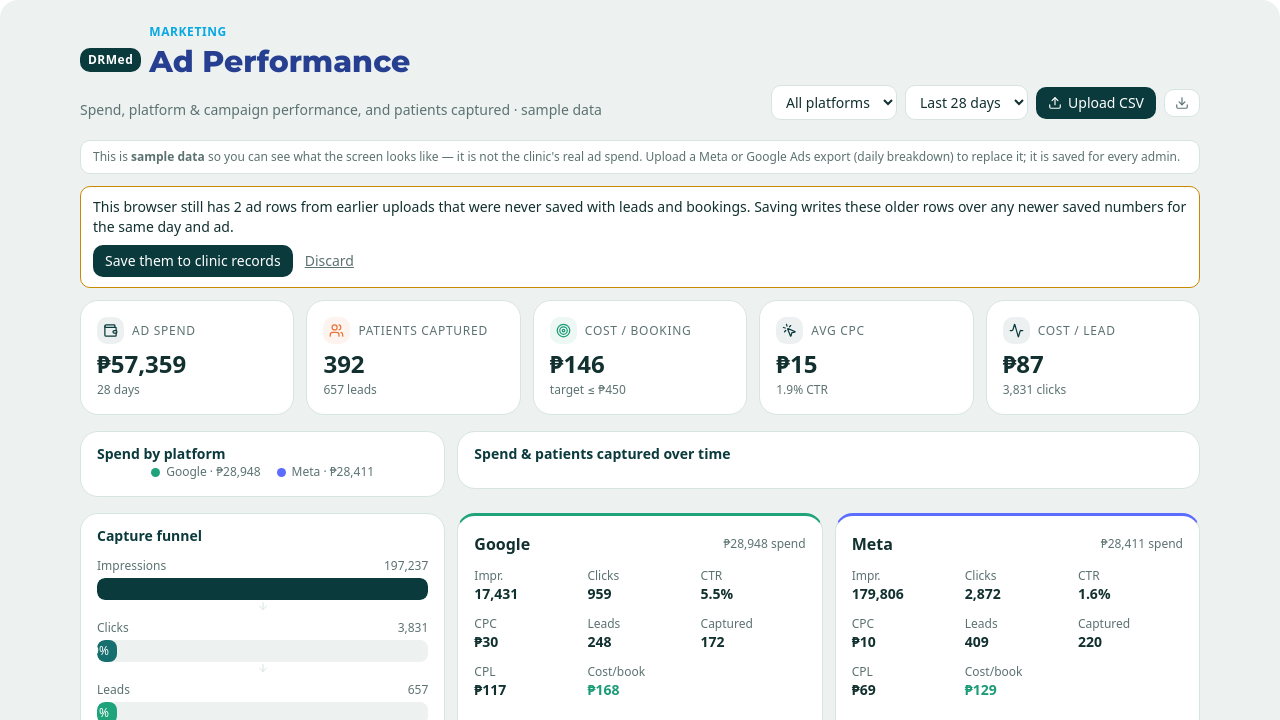
one-time move of this browser's old rows › Save sends the rows (as an upload file) through saveAdSpendAction, then clears the key and refreshes
Click the button "Save them to clinic records" at (193, 261), box [93, 245, 293, 277]
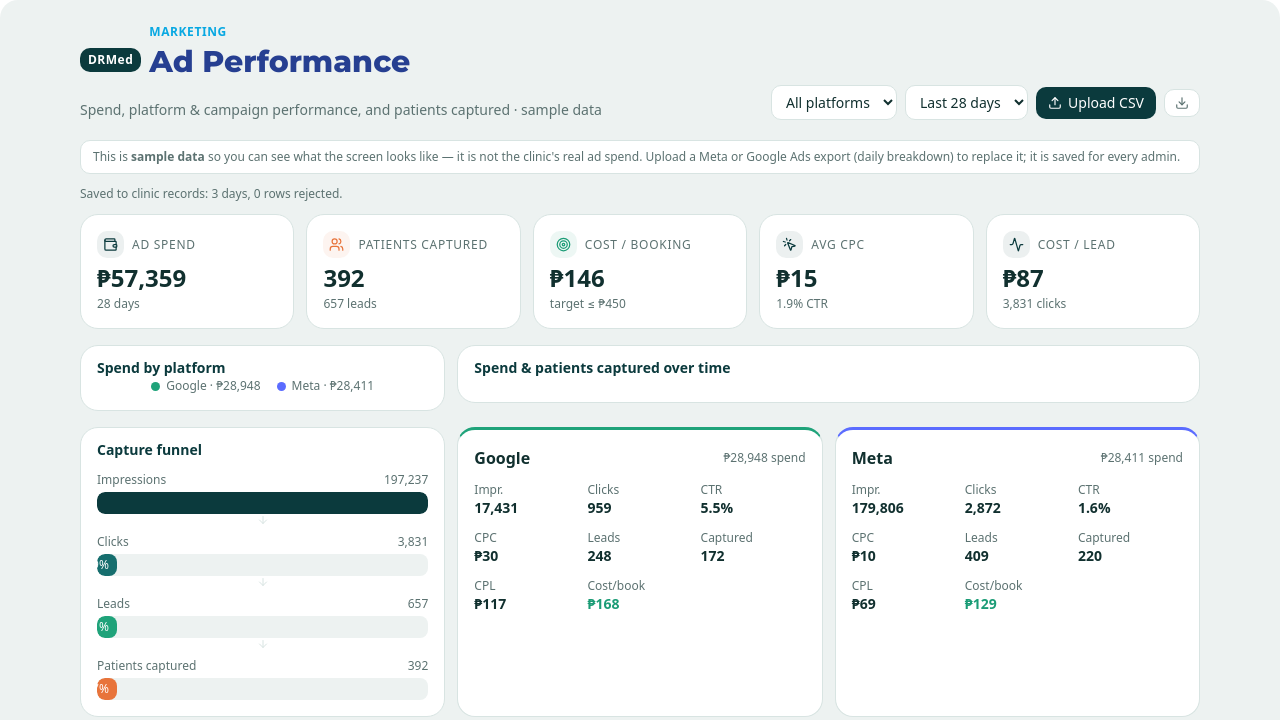
expect the text "Saved to clinic records: 3 days, 0 rows rejected." is shown: met, box [80, 185, 343, 202]
